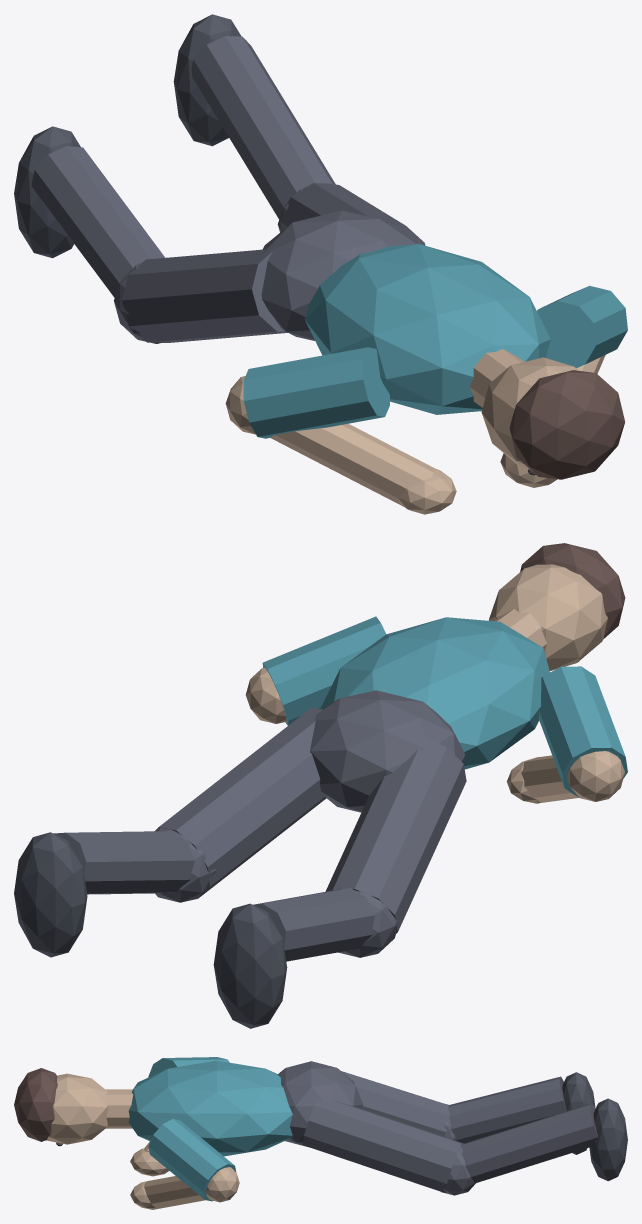
3 renders of one model, top to bottom at view 1: azimuth 30°, elevation 25°; view 2: azimuth 150°, elevation 25°; view 3: azimuth 270°, elevation 25°, orthographic. The views are drawn at different scales.
Visible parts, largest first — view 1: world; view 2: world; view 3: world.
Boxes of the visible parts, bbox=[...] form: world: bbox=[14, 14, 627, 514]; world: bbox=[14, 543, 627, 1028]; world: bbox=[14, 1057, 627, 1209].
Size of the model in its own units: 0.93 by 0.44 by 2.01.
